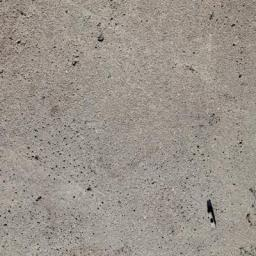FOD: (205, 196, 221, 233)
